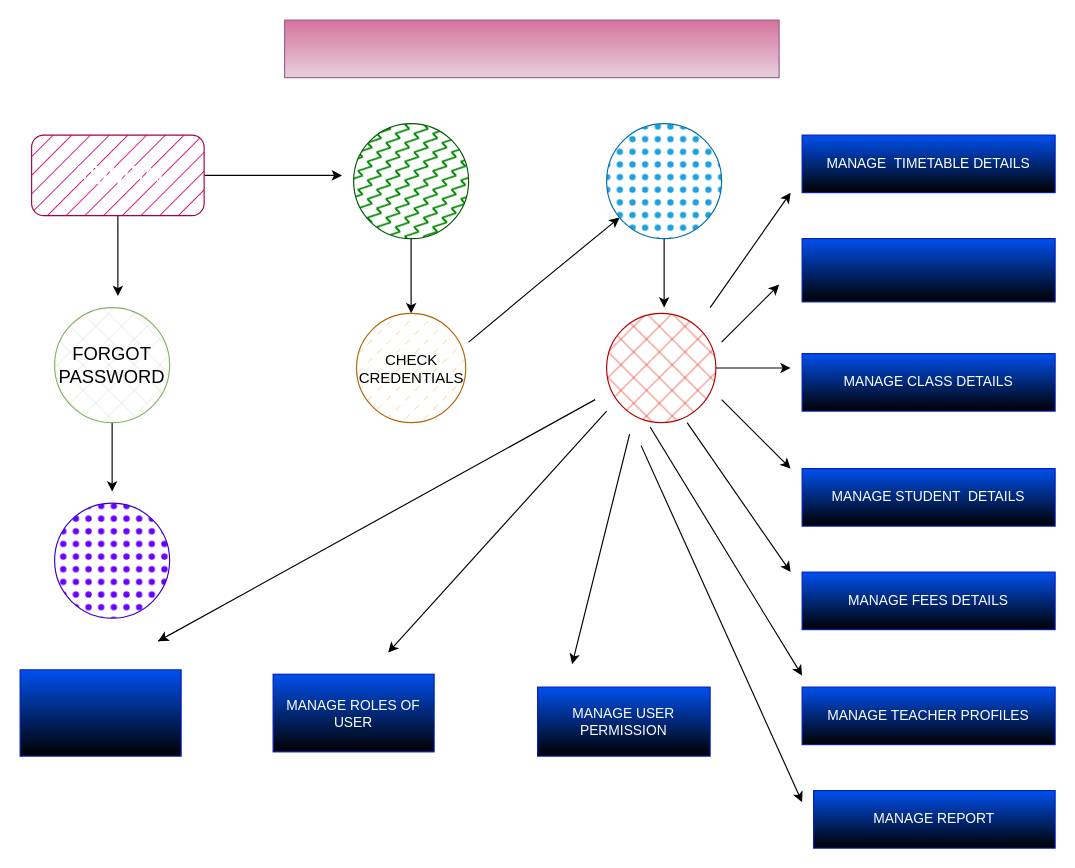
This 1075x868 diagram has some shape labels left out. Each missing label, with the centre of its shape:
CHECK ROLES OF ACESS: the point at 663,180
LOGIN TO SYSTEM: the point at 410,180
MANAGE ATTENDANCE DETAILS: the point at 928,269
MANAGE MODULES: the point at 660,367
SEND EMAIL TO USER: the point at 111,560
STUDENT INFORMATION SYSTEM: the point at 531,48
